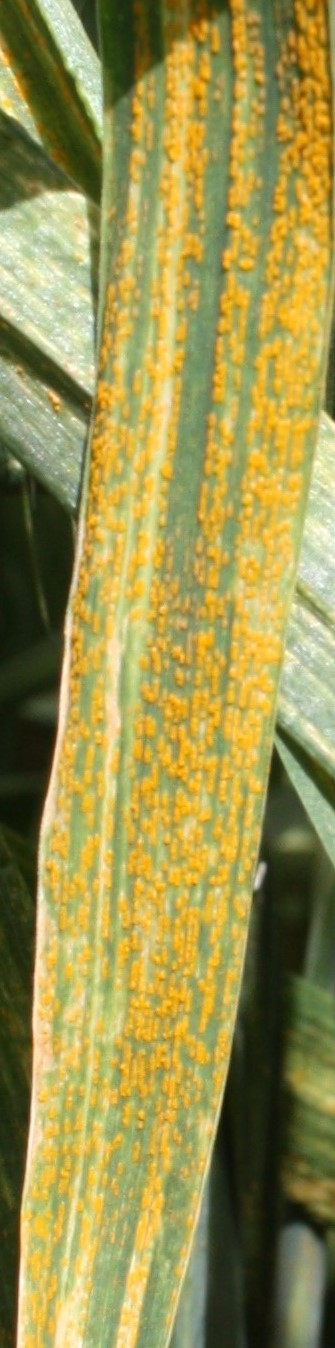Leaf Rust: (26, 108, 335, 1171)
